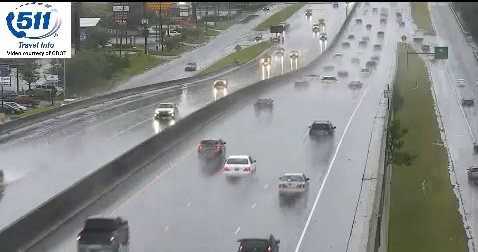car: (78, 215, 129, 252), (238, 233, 279, 251), (279, 173, 308, 196), (224, 155, 254, 176), (198, 138, 225, 158), (309, 121, 334, 140)
